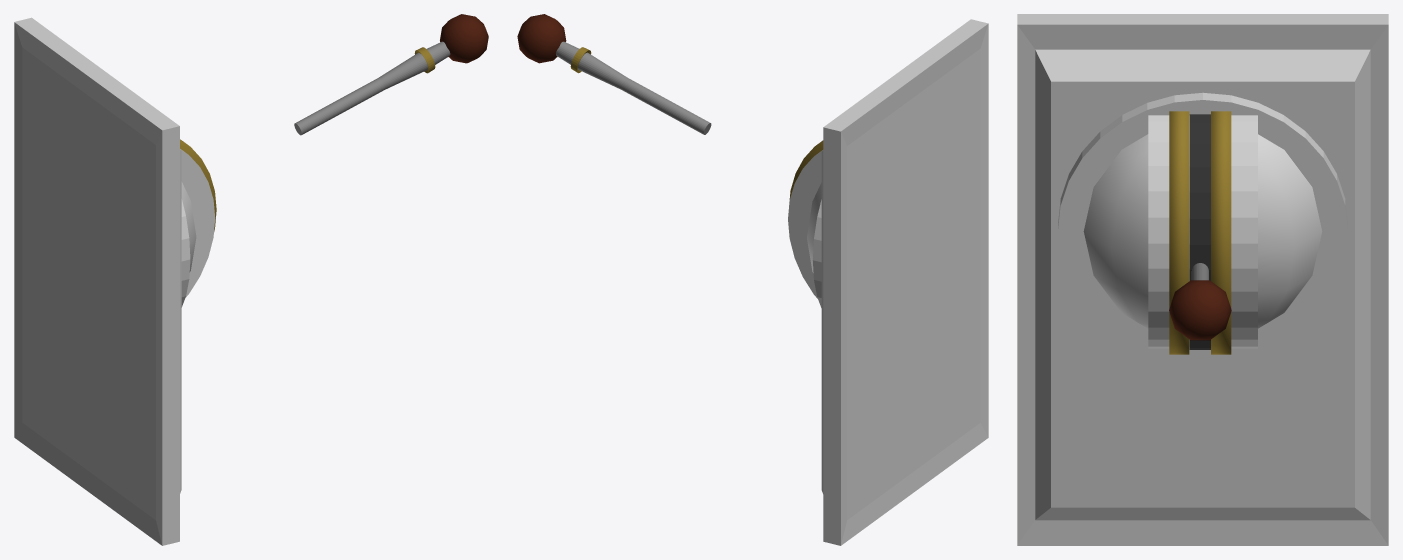
Rendered from elevatorLeverAndWallMountFixed.fbx.
3 renders of one model, left to right at view 1: azimuth 30°, elevation 25°; view 2: azimuth 150°, elevation 25°; view 3: azimuth 270°, elevation 25°, orthographic. The views are drawn at different scales.
Parts seen in each view (by area): view 1: elevatorWallMount, elevatorLever; view 2: elevatorWallMount, elevatorLever; view 3: elevatorWallMount, elevatorLever.
Boxes of the visible parts, x1,y1,x2,y2 form: elevatorWallMount: (14,17,216,545); elevatorLever: (294,14,488,135); elevatorWallMount: (788,19,988,545); elevatorLever: (517,14,711,134); elevatorWallMount: (1017,14,1388,545); elevatorLever: (1169,263,1231,340).
Size of the model in its own units: 431 by 432 by 279.
